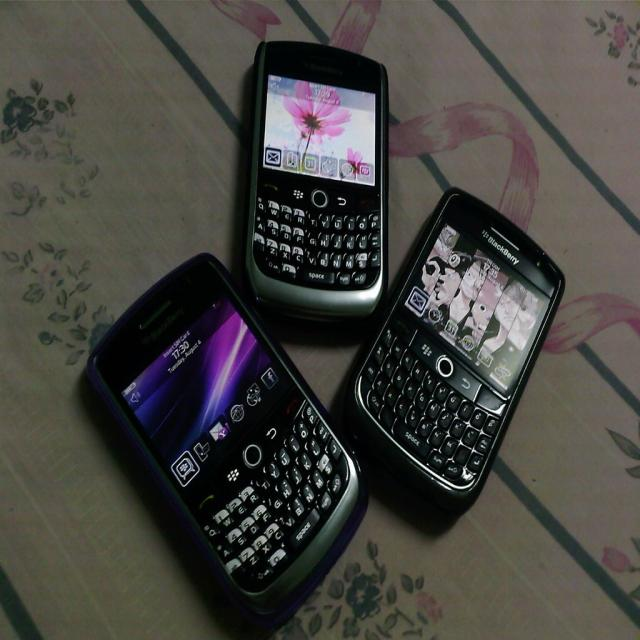Mobile-phone: (85, 250, 370, 640), (348, 185, 566, 505), (242, 39, 392, 333)
